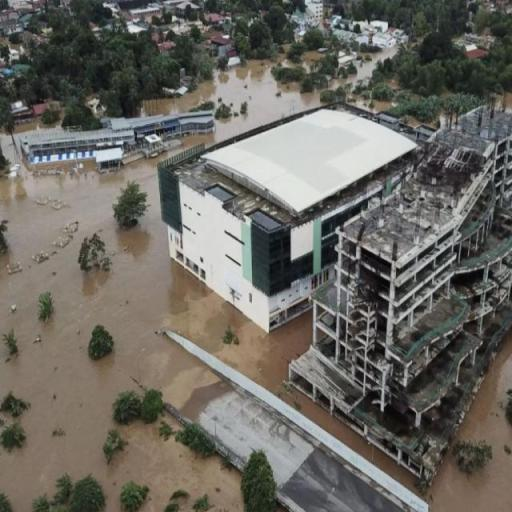flood: (0, 60, 418, 512), (424, 332, 512, 512), (331, 49, 396, 87), (274, 44, 326, 72), (506, 94, 512, 111), (376, 102, 390, 109)
house: (168, 91, 420, 336), (331, 102, 512, 421), (22, 128, 132, 166)
